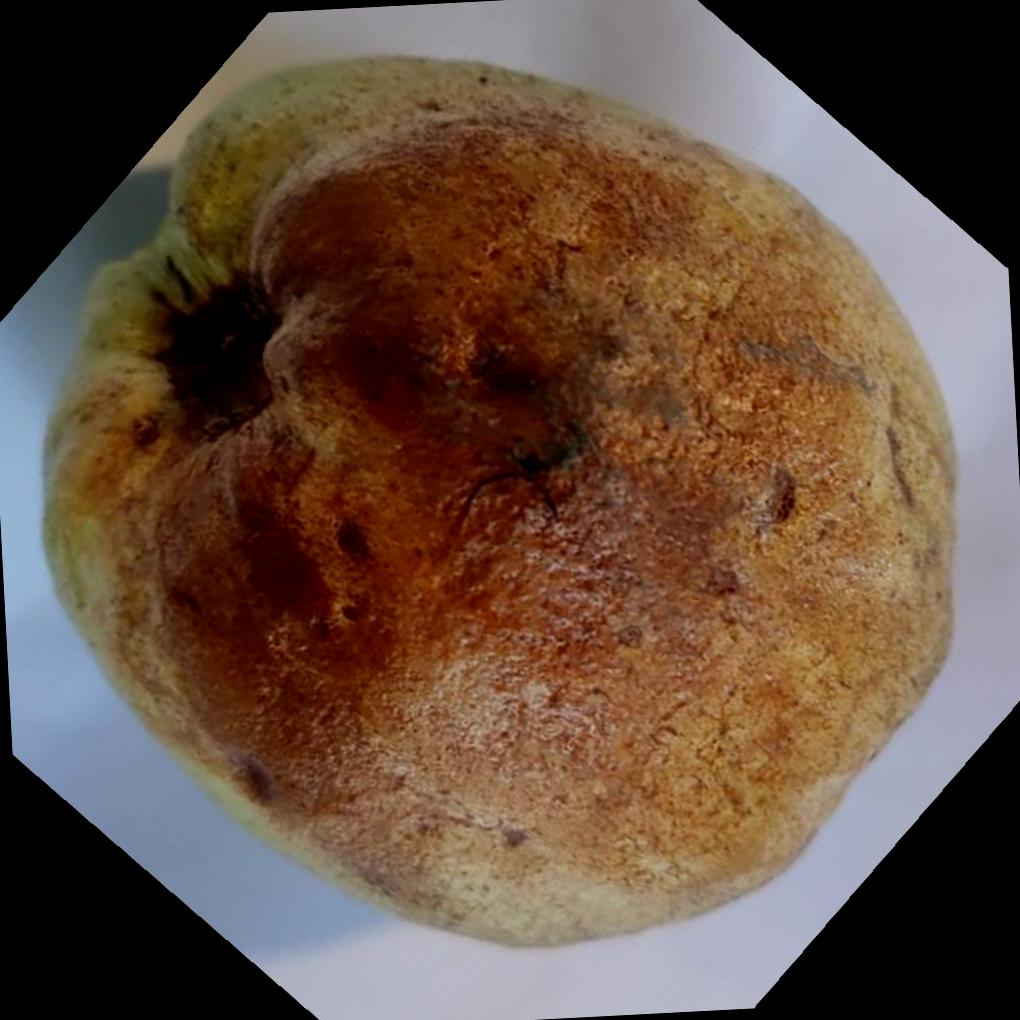FreshOrange: (38, 55, 958, 953)
